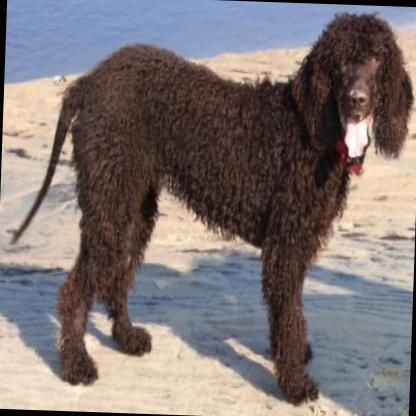Irish_water_spaniel: (0, 0, 416, 410)
